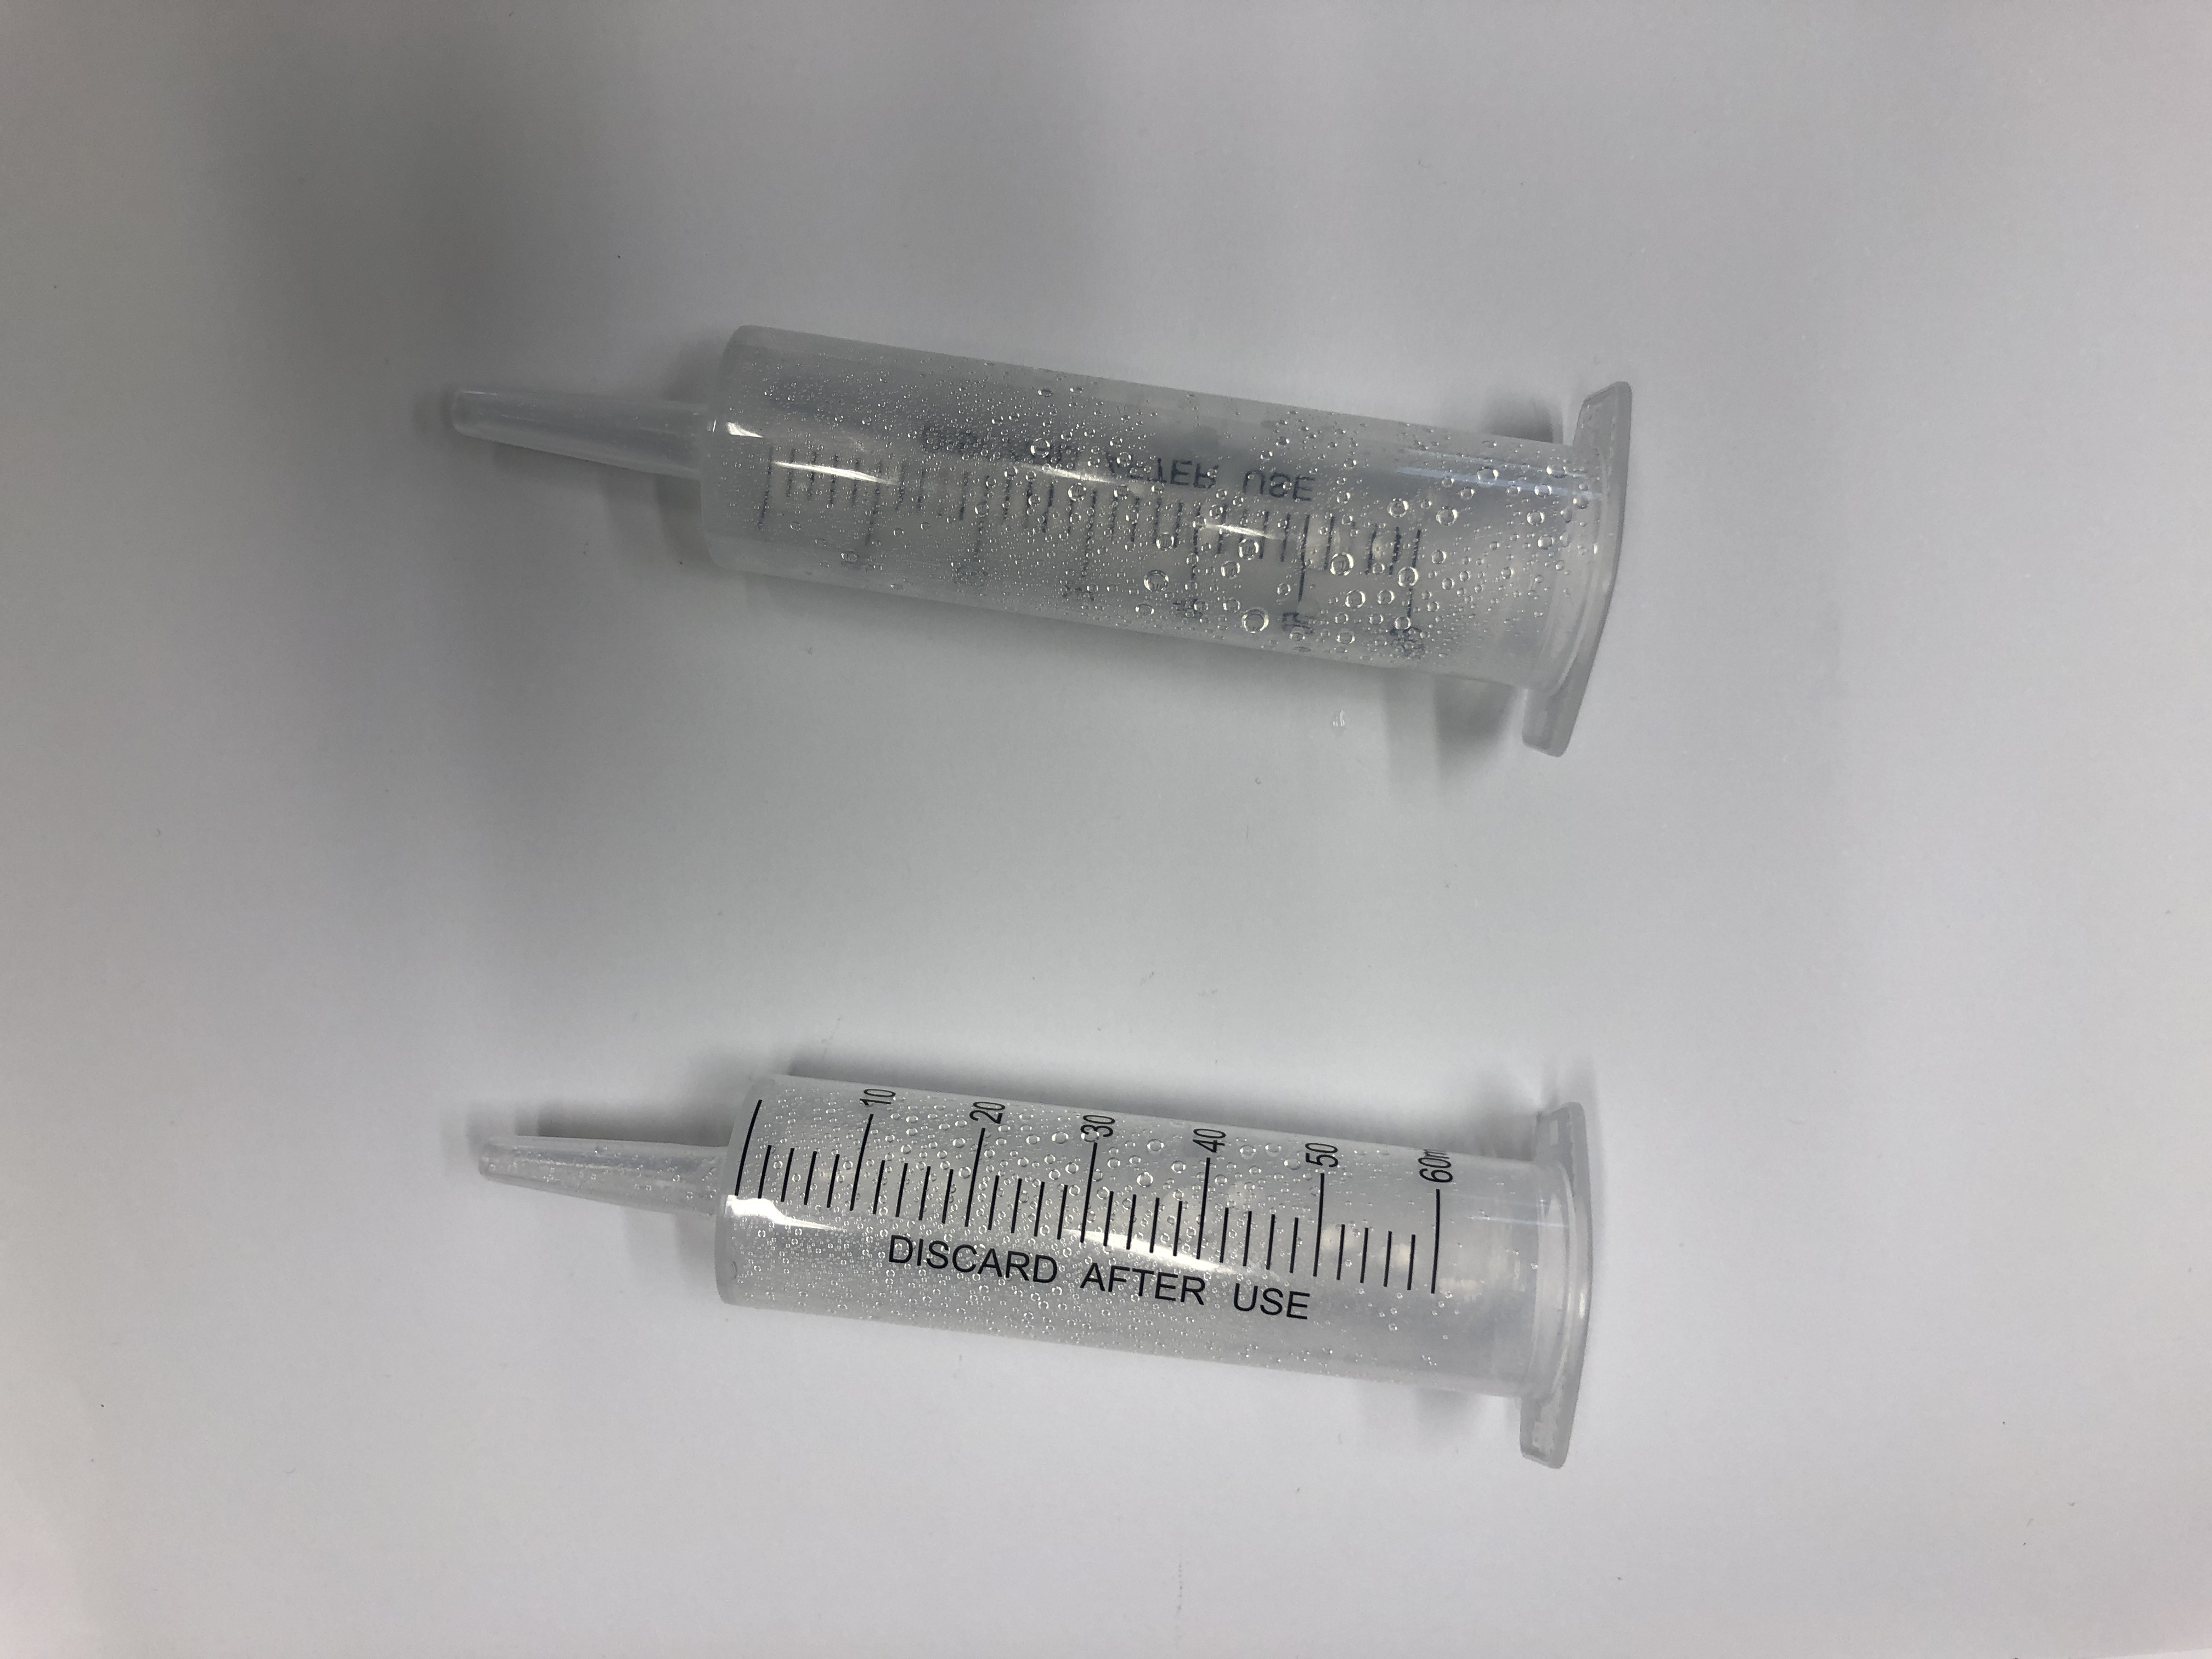syringe: (442, 319, 1639, 765), (462, 1061, 1616, 1471)
